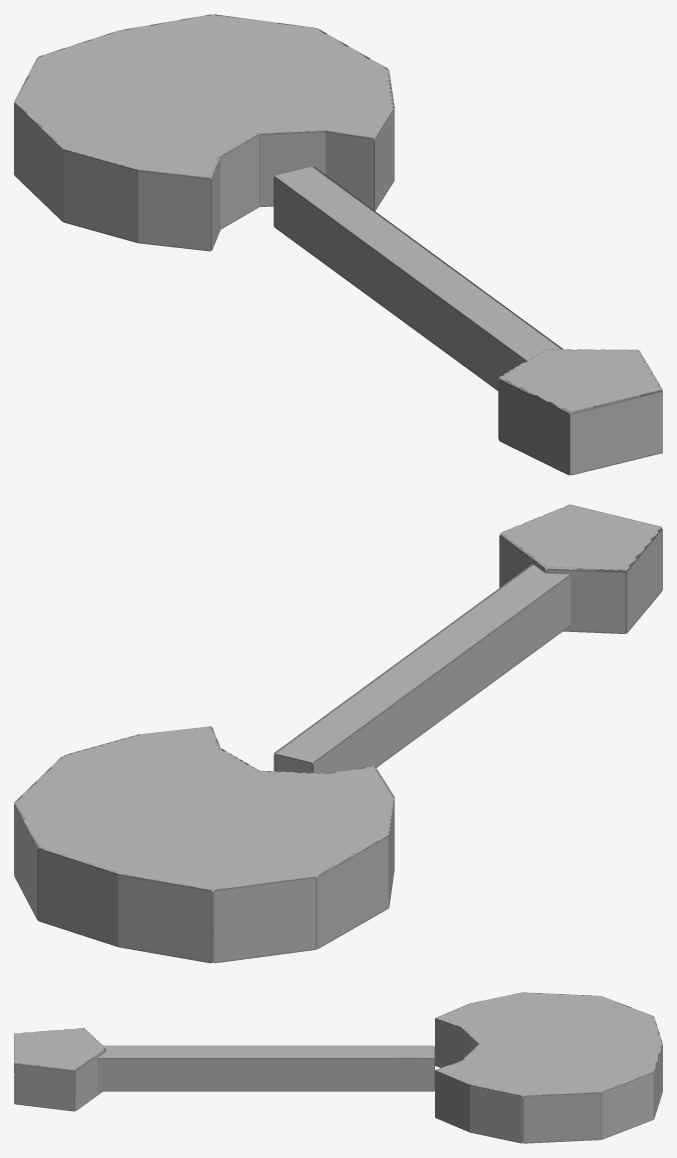
The model's file is pz_house_guitar_bass_blue.obj.
3 views of the same model, one above another, from view 1: azimuth 30°, elevation 25°; view 2: azimuth 150°, elevation 25°; view 3: azimuth 270°, elevation 25° (orthographic). The views are drawn at different scales.
Parts seen in each view (by area): view 1: pz_house_guitar_bass_blue; view 2: pz_house_guitar_bass_blue; view 3: pz_house_guitar_bass_blue.
Part boxes in pixels (x1,y1,x2,y2): pz_house_guitar_bass_blue: (14, 14, 662, 475); pz_house_guitar_bass_blue: (14, 504, 662, 963); pz_house_guitar_bass_blue: (14, 992, 662, 1143).
Bounding box in the file's own units: 0.28 × 0.065 × 0.74.
1 material, 1 textured.
